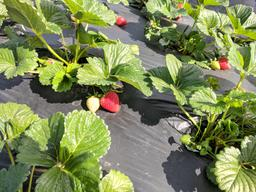green strawberry: (85, 94, 100, 113), (209, 59, 220, 70)
red strawberry: (100, 90, 120, 113), (219, 56, 229, 70), (116, 15, 126, 26)
